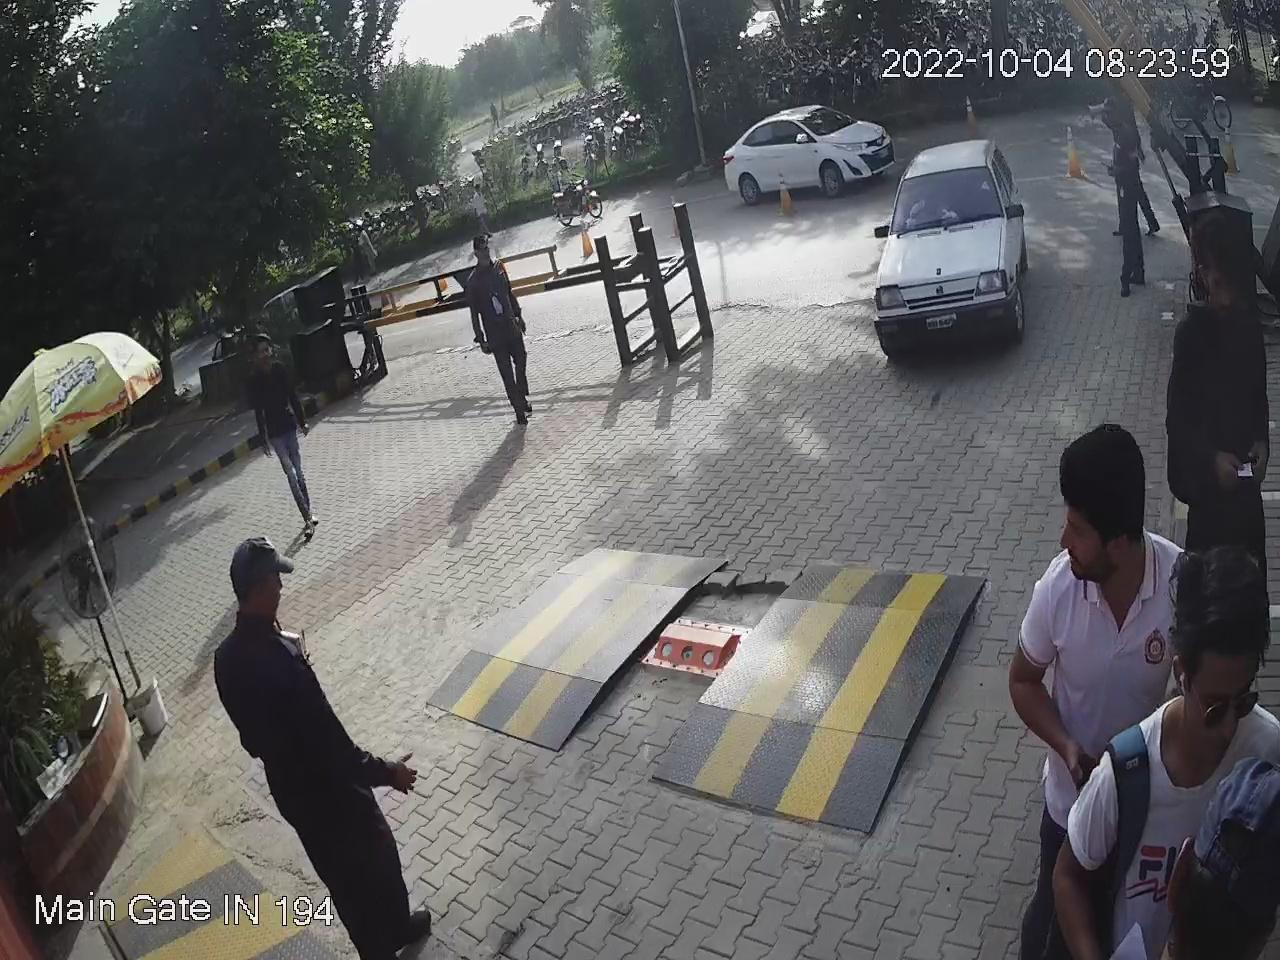windshield: (890, 155, 1005, 238)
